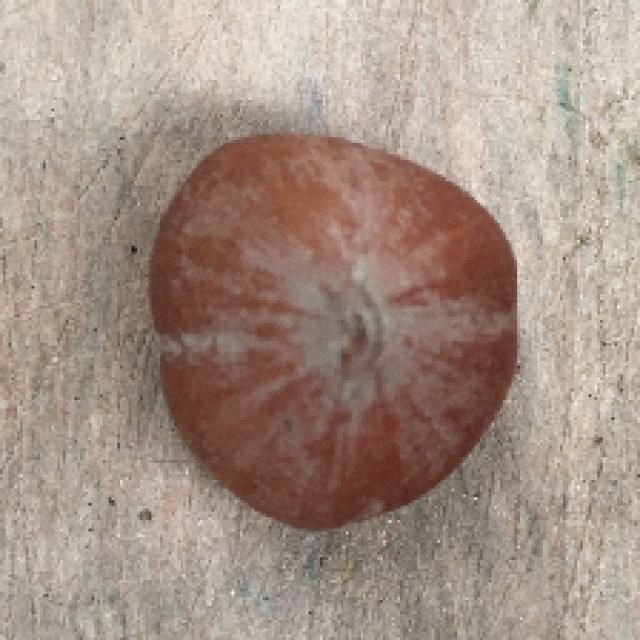QualityHazelnut: (144, 132, 523, 536)
